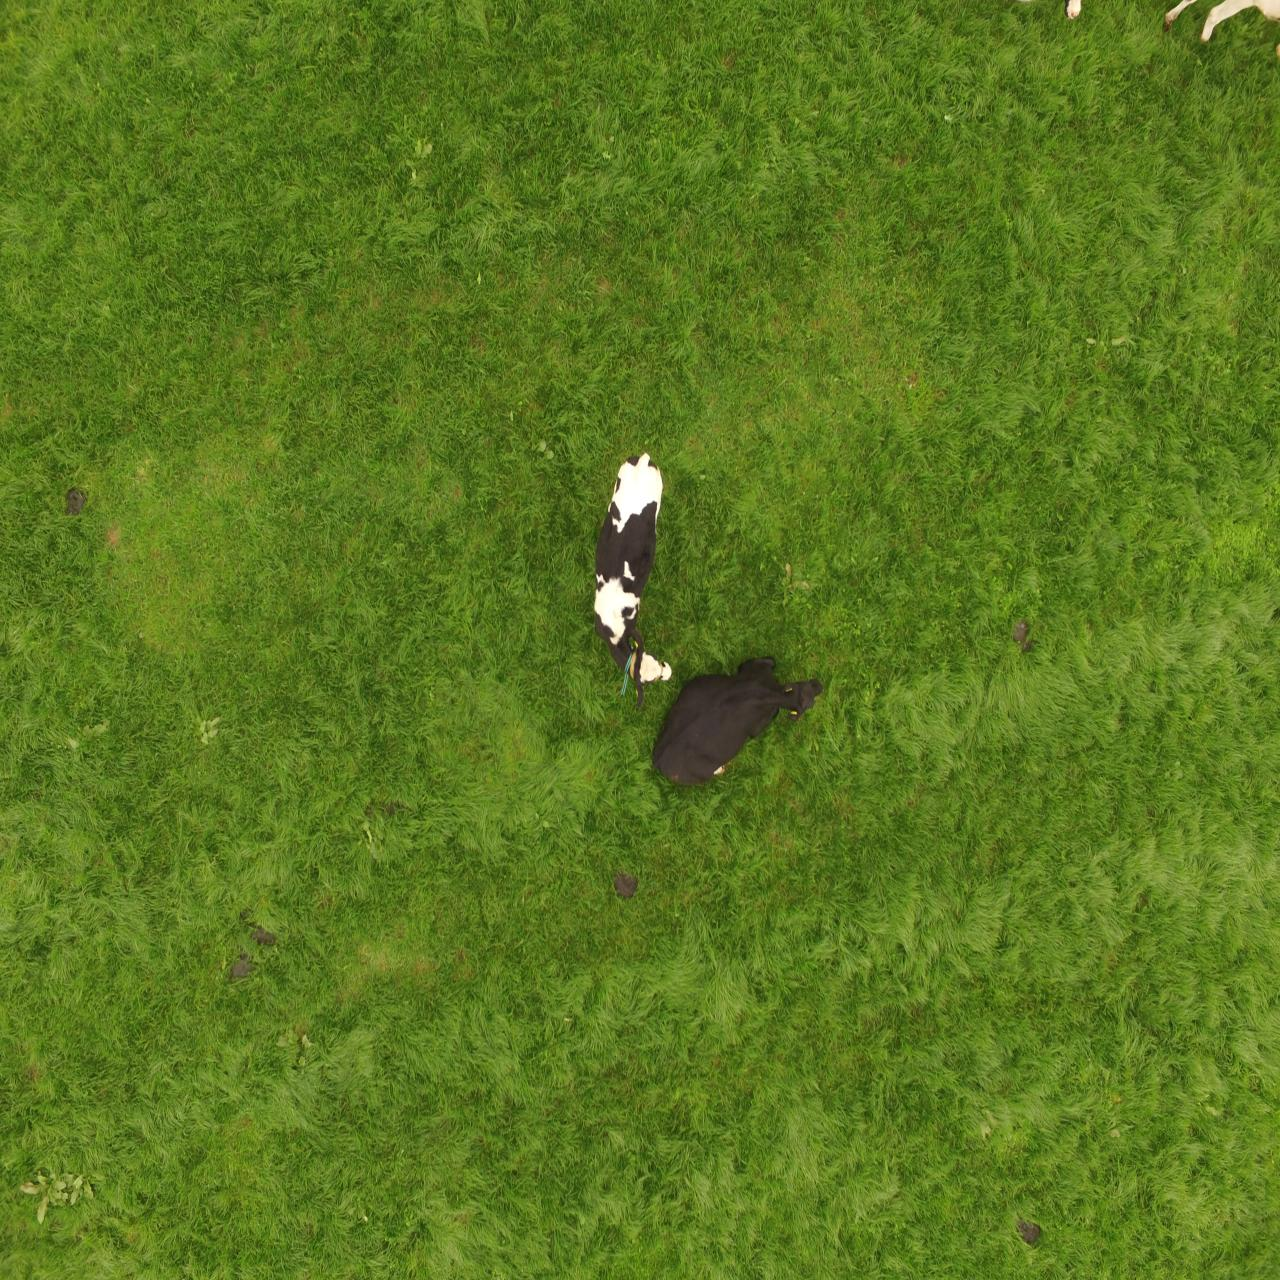cow: (585, 441, 692, 693), (653, 653, 829, 792)
